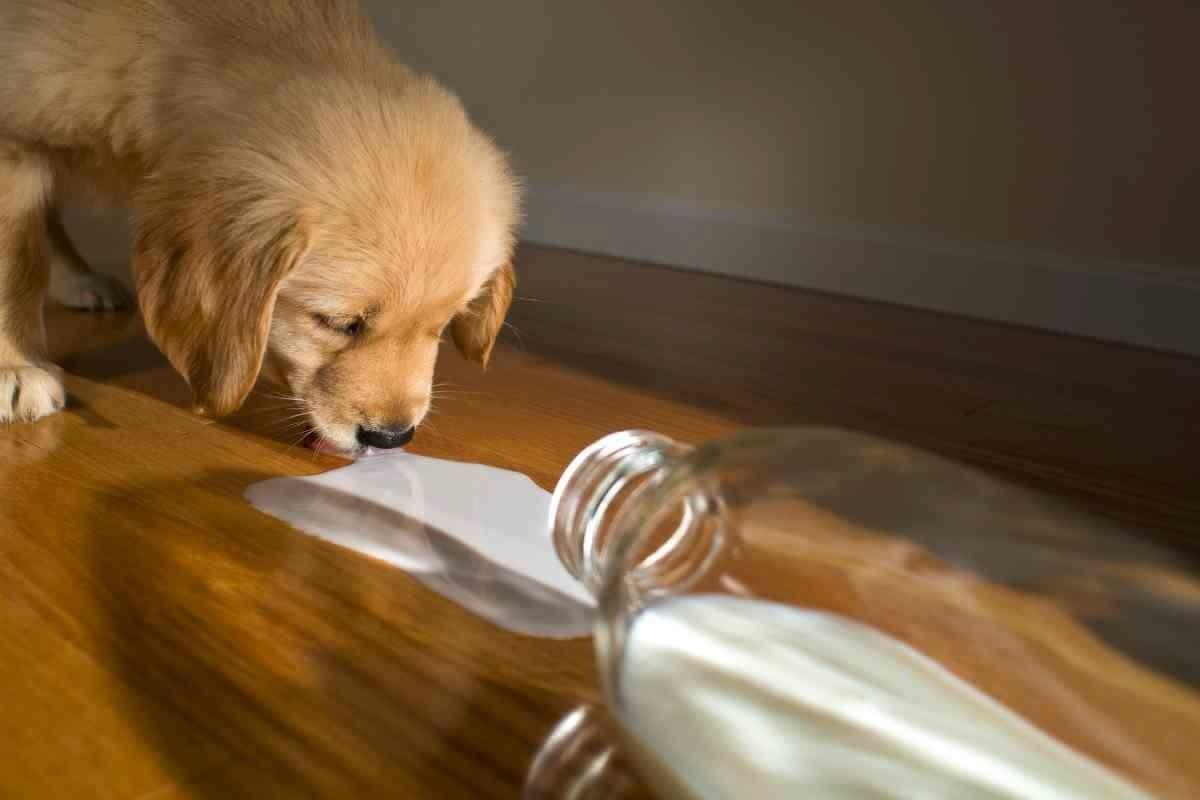puppy-dog: (0, 2, 526, 462)
